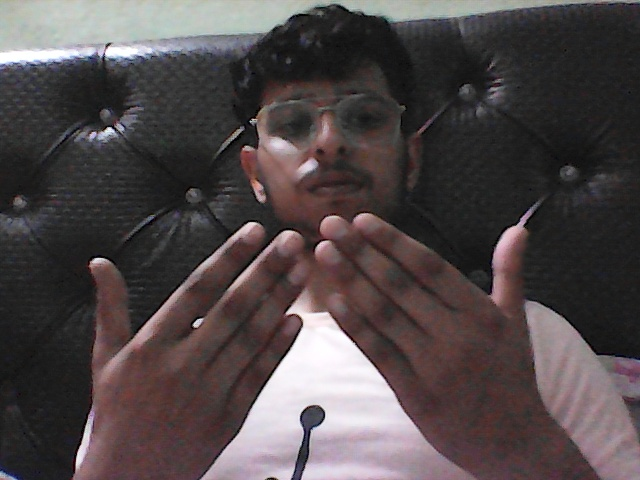thankyou: (21, 215, 597, 480)
